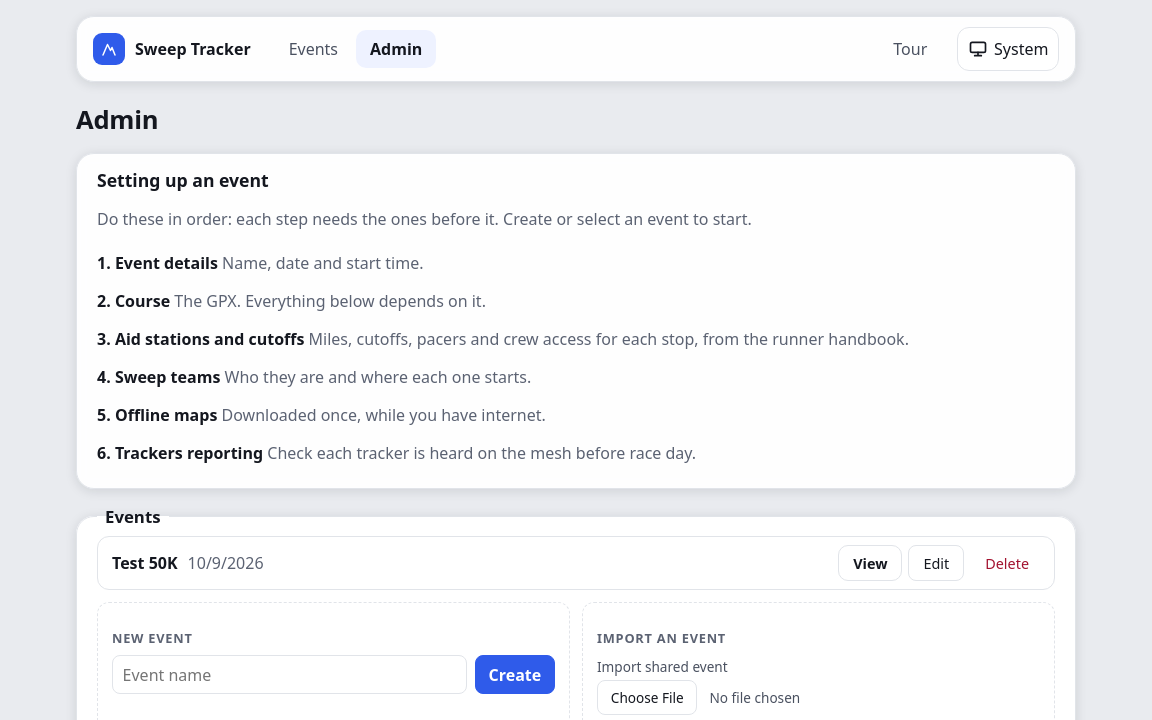
Scenario: AdminPage › setup guide › shows where the selected event stands, and updates as it is set up
Click the button with aria-label "Edit Test 50K": [936, 563] box [908,545,964,581]
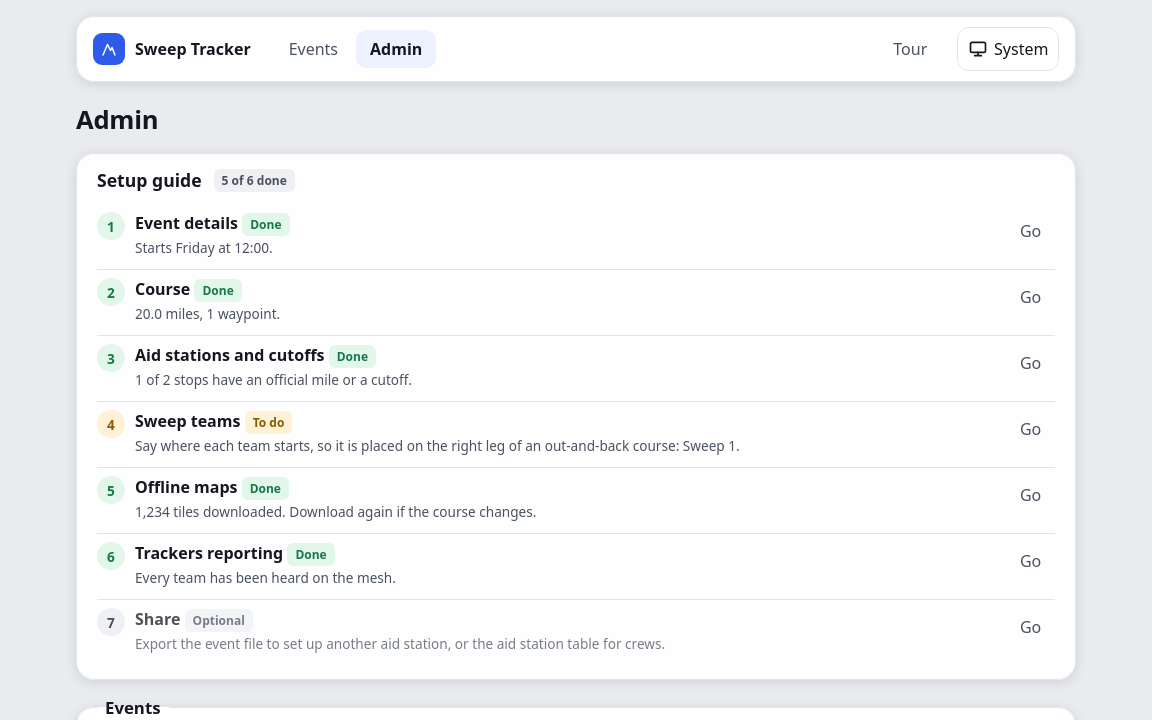
Expected: the 4th text "Done" is shown, [242,477,289,500]
Expected: the text "5 of 6 done" is shown, [214,168,295,192]
Expected: the 1st text "Done" is shown, [242,213,290,236]
